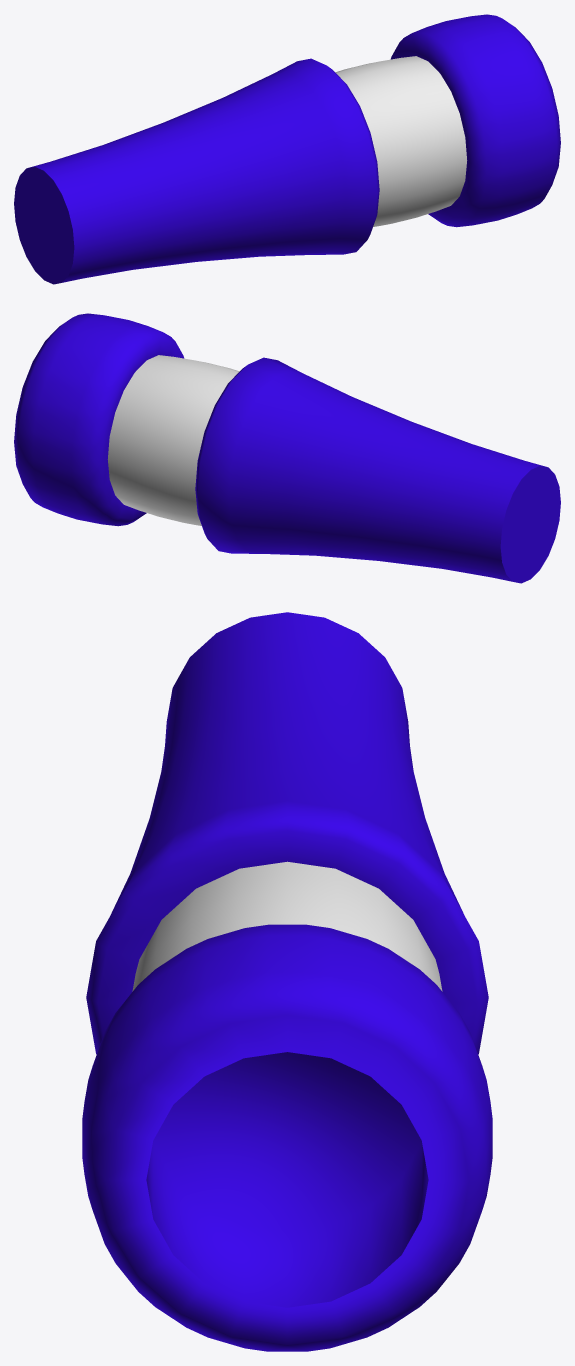
File: gun.fbx
The picture shows the model from 3 angles, top to bottom: view 1: azimuth 30°, elevation 25°; view 2: azimuth 150°, elevation 25°; view 3: azimuth 270°, elevation 25°; orthographic projection. The views are drawn at different scales.
Visible parts, largest first — view 1: Circle; view 2: Circle; view 3: Circle.
Part boxes in pixels (x1=…): Circle: x1=14, y1=14, x2=560, y2=284; Circle: x1=14, y1=313, x2=560, y2=583; Circle: x1=82, y1=612, x2=492, y2=1351.
Size of the model in its own units: 5.4 by 2.04 by 2.04.
